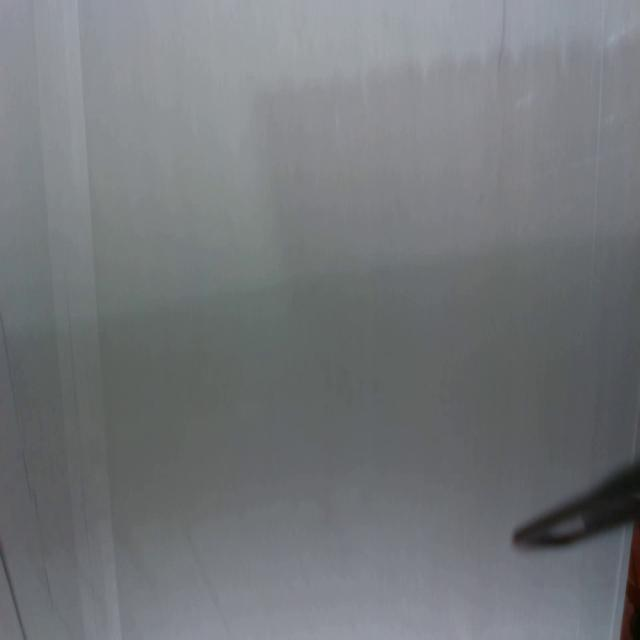color bleeding: (0, 243, 640, 463)
crease: (41, 4, 121, 638), (0, 315, 56, 605), (590, 0, 606, 270), (0, 548, 27, 640)
